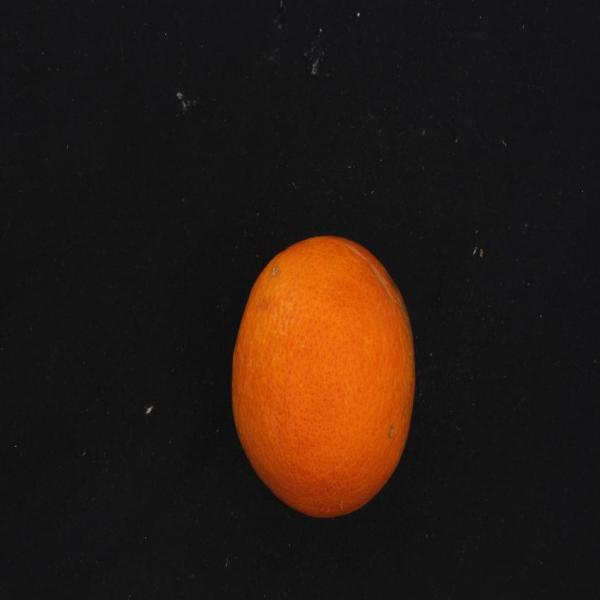Sana: (225, 225, 427, 528)
